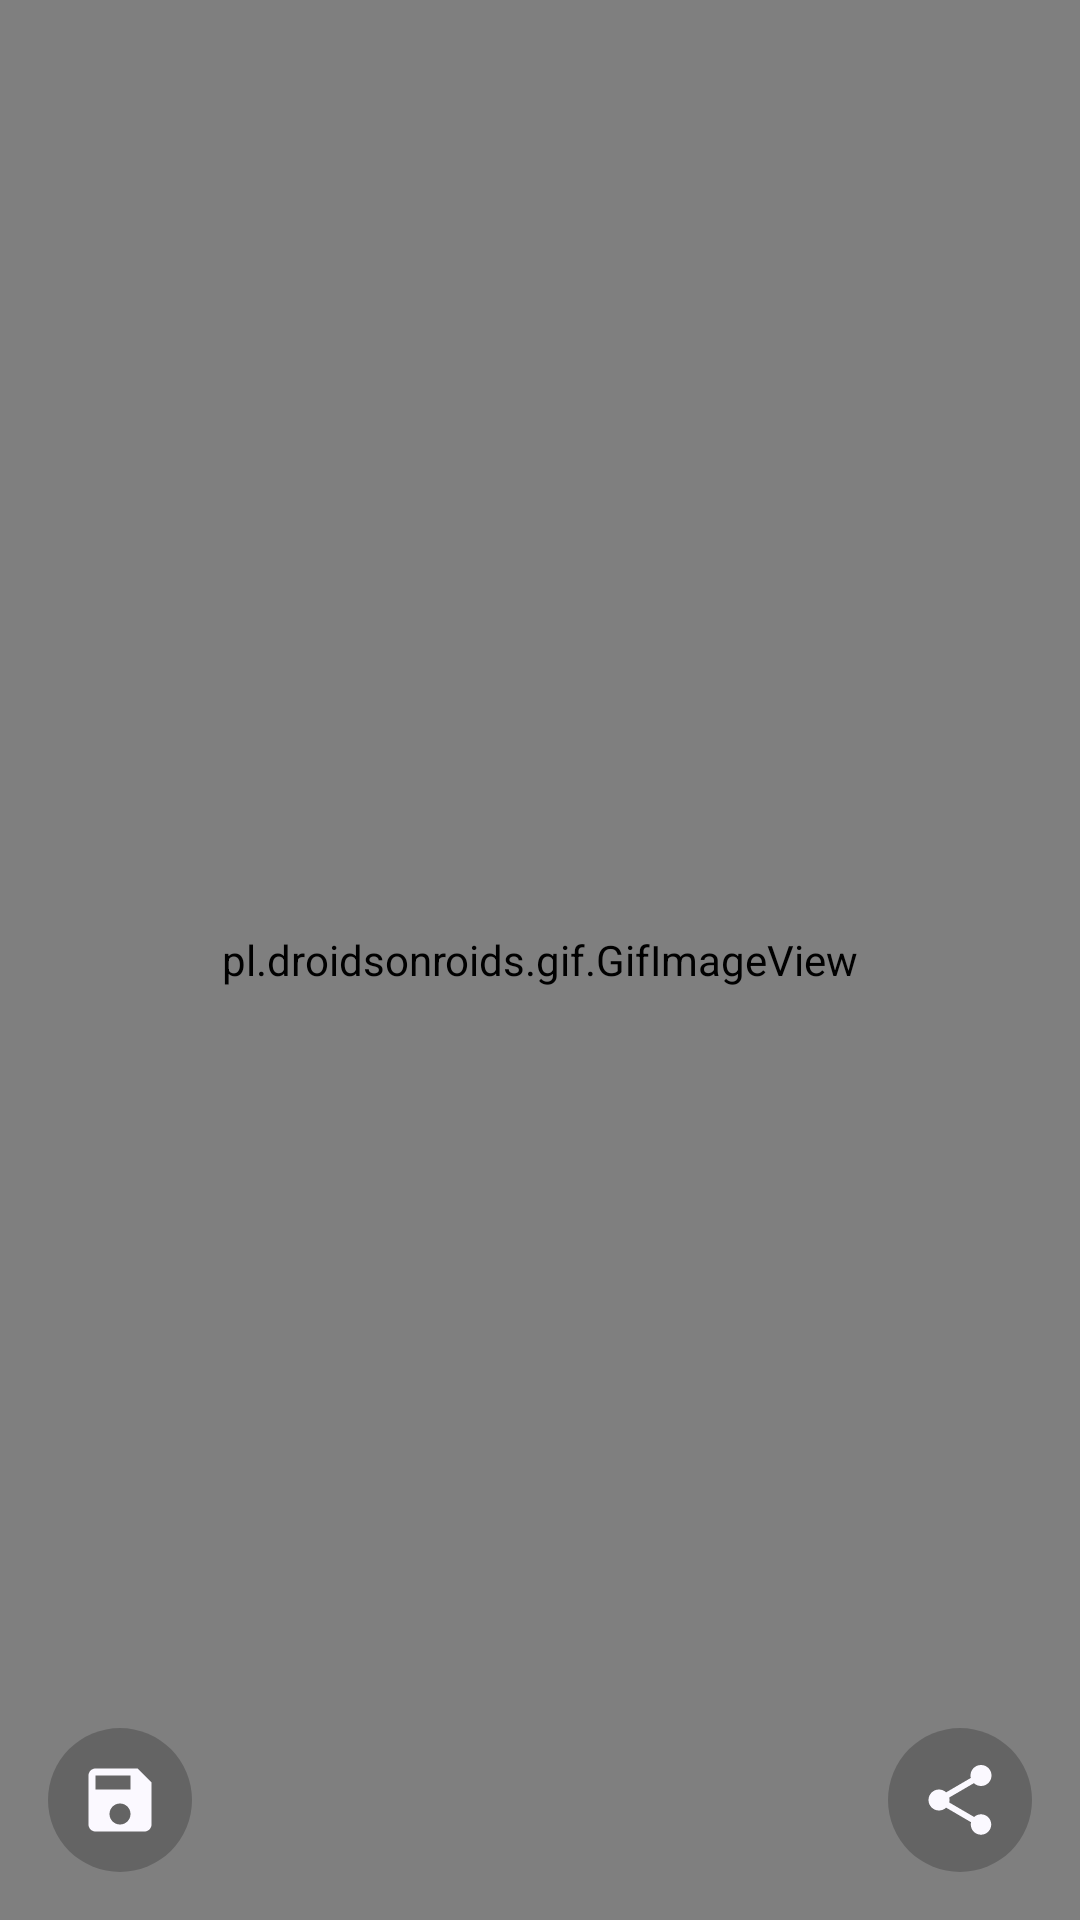

Point at icon controls on the screen. Image size 1080 x 1920, points as (x=x, y=y).
save: (x=120, y=1800)
share: (x=960, y=1800)
